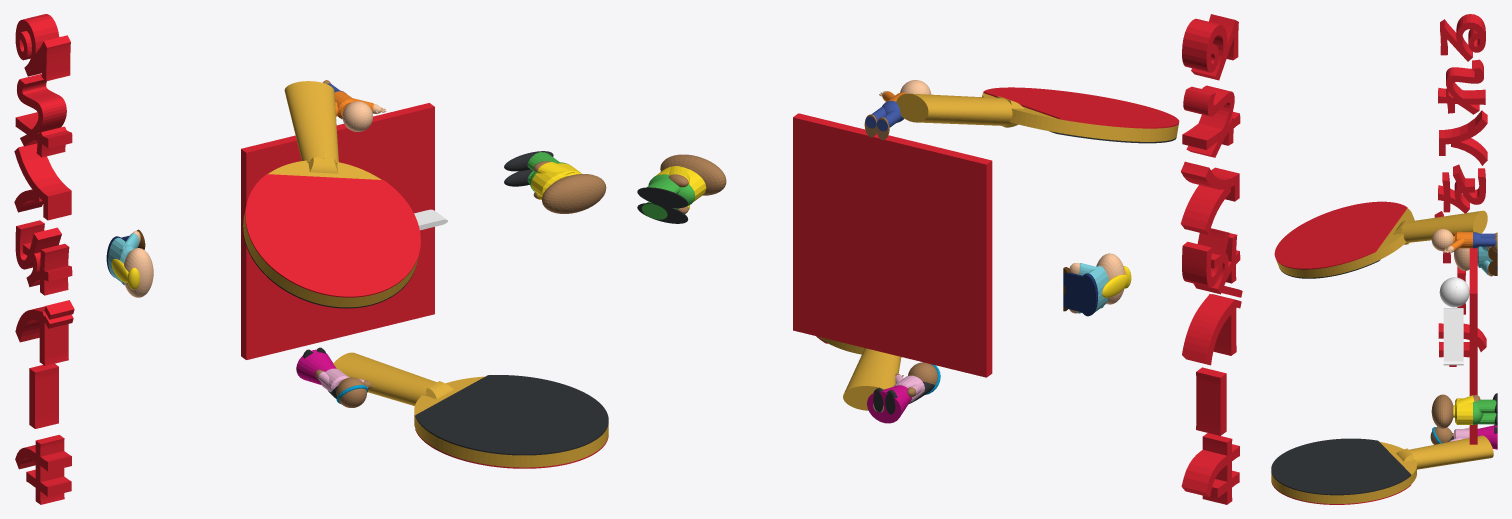
File: tinker.obj
3 views of the same model, side by side, from view 1: azimuth 30°, elevation 25°; view 2: azimuth 150°, elevation 25°; view 3: azimuth 270°, elevation 25° (orthographic). The views are drawn at different scales.
Visible parts, largest first — view 1: group_0_15277357, group_0_14789940, group_0_2829873, group_0_11107152, group_0_16500122, group_0_16768282, group_0_14093196, group_0_7720667; view 2: group_0_15277357, group_0_14789940, group_0_11107152, group_0_2829873, group_0_1650274, group_0_16500122, group_0_16768282, group_0_4634441, group_0_14093196, group_0_3888547; view 3: group_0_15277357, group_0_14789940, group_0_2829873, group_0_16448250, group_0_11107152, group_0_16500122, group_0_4634441, group_0_16768282, group_0_16089887, group_0_3888547, group_0_7720667, group_0_14093196.
Boxes of the visible parts, left/top/right/bottom form: group_0_15277357: left=14, top=14, right=608, bottom=504; group_0_14789940: left=243, top=81, right=608, bottom=467; group_0_2829873: left=243, top=151, right=608, bottom=455; group_0_11107152: left=315, top=80, right=606, bottom=407; group_0_16500122: left=124, top=101, right=386, bottom=297; group_0_16768282: left=111, top=162, right=581, bottom=289; group_0_14093196: left=296, top=349, right=336, bottom=384; group_0_7720667: left=108, top=233, right=139, bottom=285; group_0_15277357: left=793, top=14, right=1242, bottom=504; group_0_14789940: left=818, top=93, right=1178, bottom=410; group_0_11107152: left=660, top=114, right=937, bottom=397; group_0_2829873: left=637, top=131, right=1176, bottom=414; group_0_1650274: left=1063, top=272, right=1098, bottom=316; group_0_16500122: left=873, top=80, right=1124, bottom=412; group_0_16768282: left=653, top=166, right=1131, bottom=297; group_0_4634441: left=641, top=174, right=695, bottom=219; group_0_14093196: left=867, top=385, right=911, bottom=423; group_0_3888547: left=865, top=100, right=904, bottom=131; group_0_15277357: left=1271, top=14, right=1487, bottom=504; group_0_14789940: left=1271, top=208, right=1493, bottom=503; group_0_2829873: left=1271, top=259, right=1497, bottom=495; group_0_16448250: left=1439, top=277, right=1469, bottom=365; group_0_11107152: left=1430, top=232, right=1497, bottom=444; group_0_16500122: left=1431, top=229, right=1492, bottom=276; group_0_4634441: left=1473, top=399, right=1496, bottom=424; group_0_16768282: left=1453, top=395, right=1474, bottom=424; group_0_16089887: left=1449, top=231, right=1472, bottom=251; group_0_3888547: left=1473, top=232, right=1496, bottom=248; group_0_7720667: left=1477, top=246, right=1492, bottom=275; group_0_14093196: left=1477, top=425, right=1497, bottom=449.
Bounding box in the file's own units: 235 × 189 × 113.
